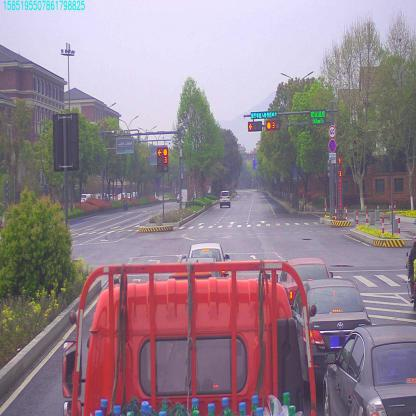traffic-light: (250, 111, 276, 118), (266, 119, 278, 129), (248, 121, 260, 130)
